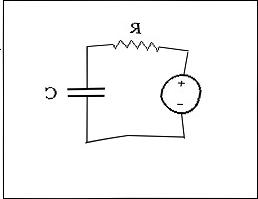Battery: (147, 65, 213, 121)
